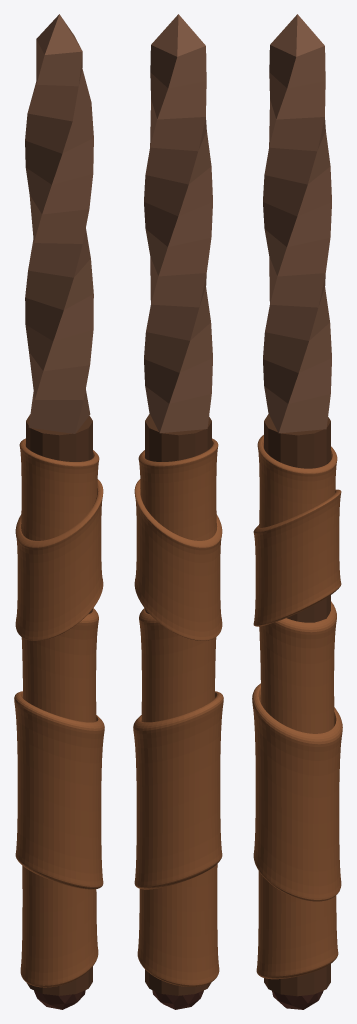
Rendered from Wand 350.glb.
3 renders of one model, left to right at view 1: azimuth 30°, elevation 25°; view 2: azimuth 150°, elevation 25°; view 3: azimuth 330°, elevation 25°, orthographic.
Visible parts, largest first — view 1: GeneratedWand; view 2: GeneratedWand; view 3: GeneratedWand.
Boxes of the visible parts, left/top/right/bottom form: GeneratedWand: left=14, top=14, right=104, bottom=1009; GeneratedWand: left=133, top=14, right=223, bottom=1009; GeneratedWand: left=252, top=14, right=342, bottom=1009.
Size of the model in its own units: 0.0408 by 0.4935 by 0.0408.
